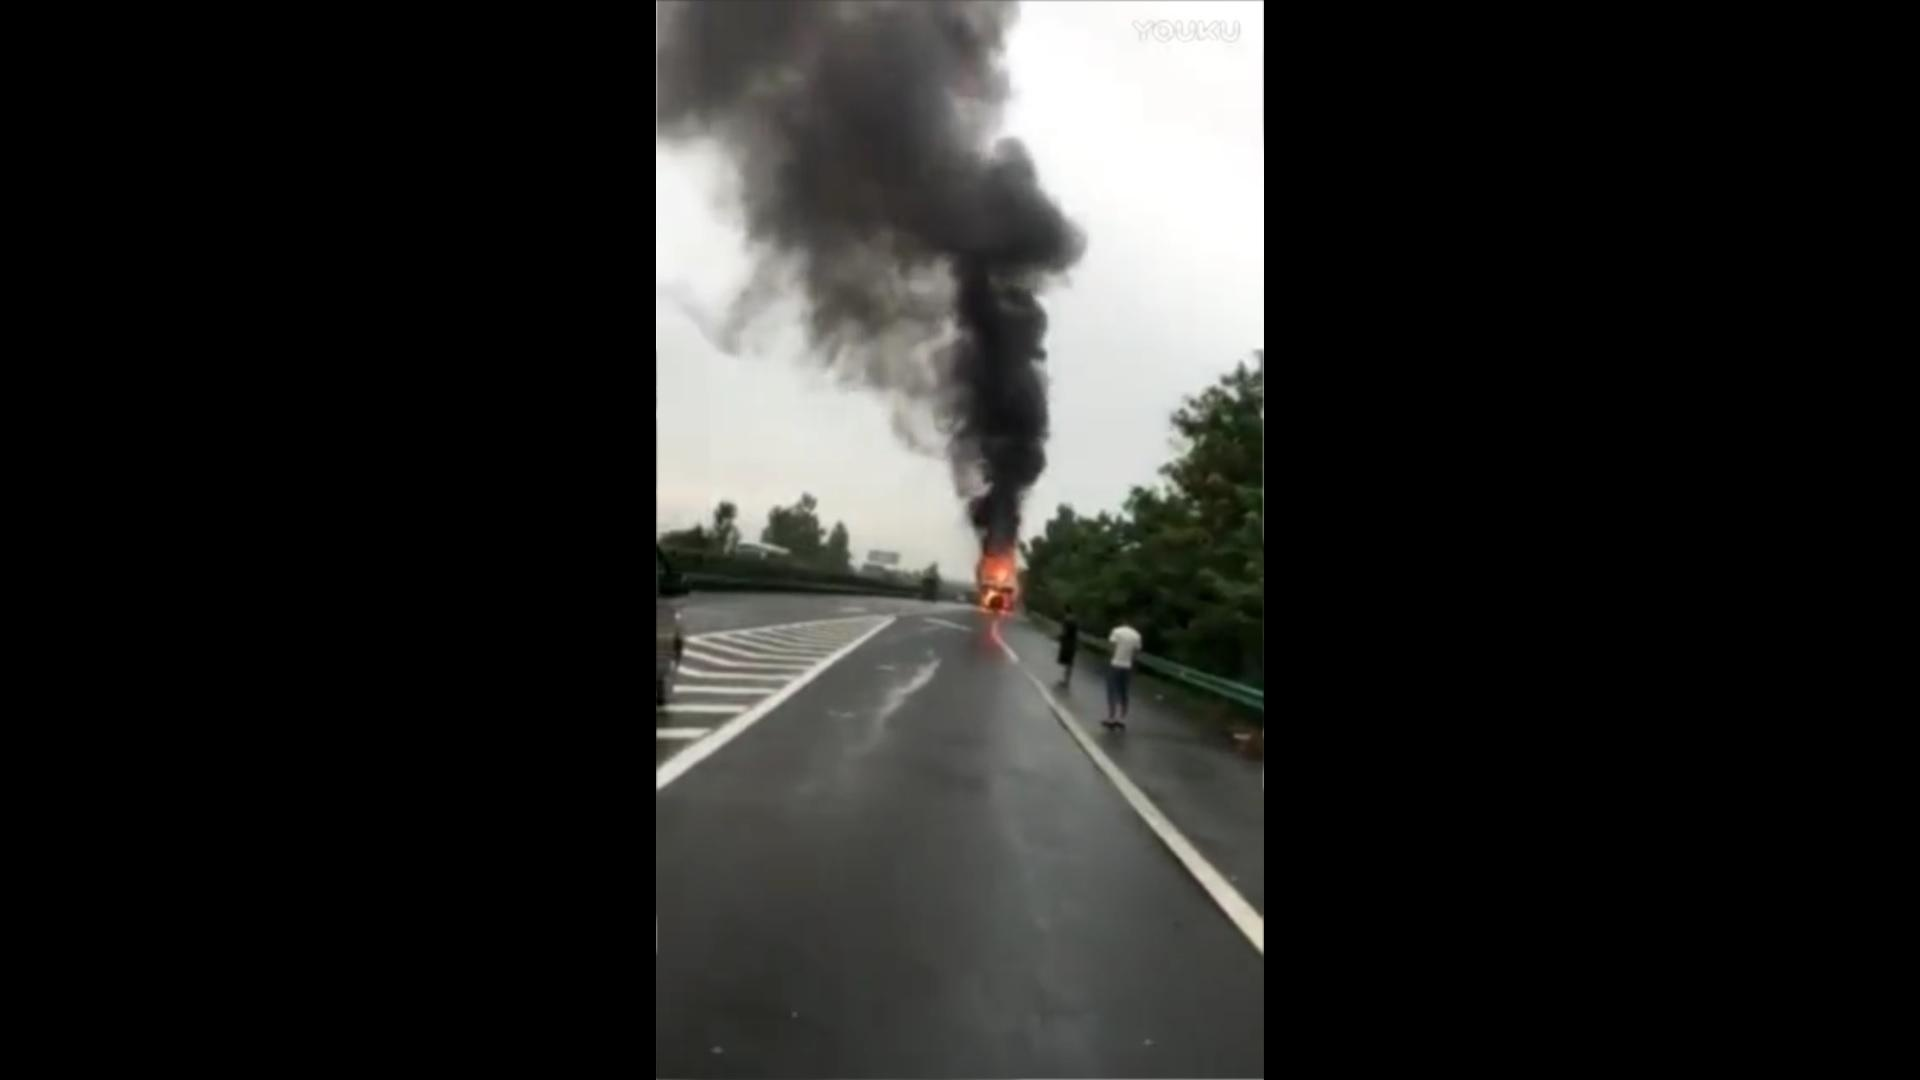fire: (972, 549, 1019, 622)
